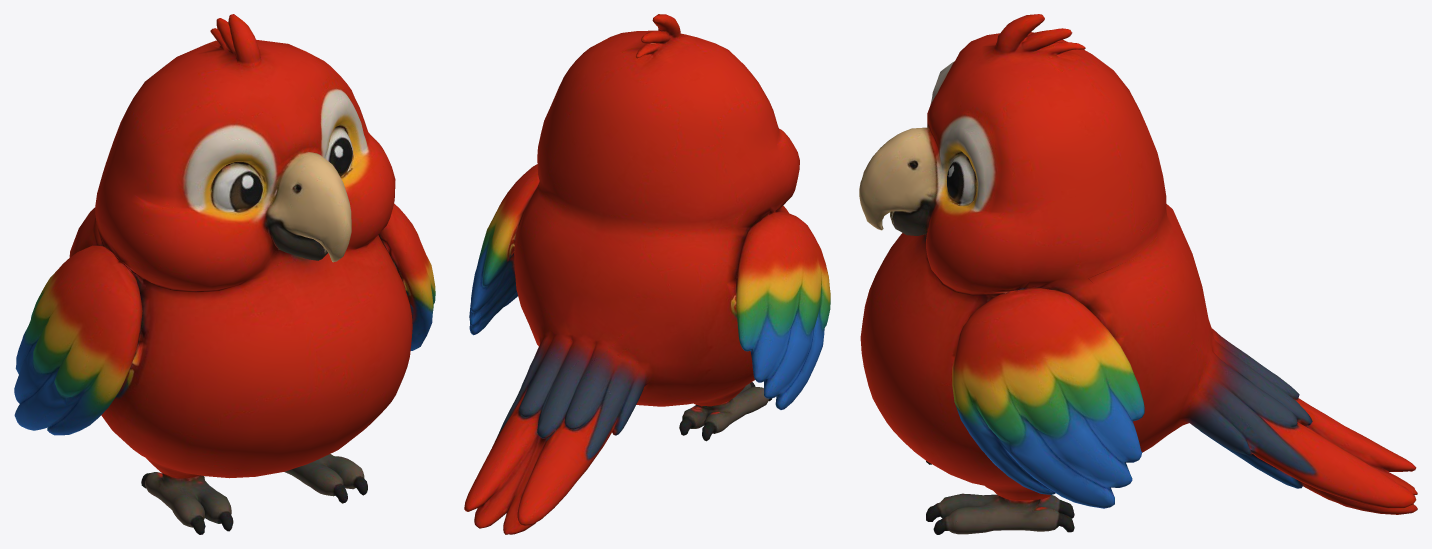
The model's file is bird.glb.
3 views of the same model, side by side, from view 1: azimuth 30°, elevation 25°; view 2: azimuth 150°, elevation 25°; view 3: azimuth 270°, elevation 25° (orthographic). The views are drawn at different scales.
Visible parts, largest first — view 1: Bird, Wing_L, Legs, Wing_R; view 2: Bird, Wing_L, Wing_R, Legs; view 3: Bird, Wing_R, Legs.
Boxes of the visible parts, x1,y1,x2,y2 form: Bird: (69,14,412,478); Wing_L: (14,245,142,435); Legs: (141,454,367,534); Wing_R: (378,203,435,350); Bird: (464,14,799,534); Wing_L: (736,211,830,409); Wing_R: (469,164,539,335); Legs: (679,382,772,441); Bird: (859,14,1417,514); Wing_R: (952,288,1144,508); Legs: (926,461,1074,534).
Size of the model in its own units: 0.8082 by 0.9589 by 1.
Materials: 1 (1 with a texture image).
